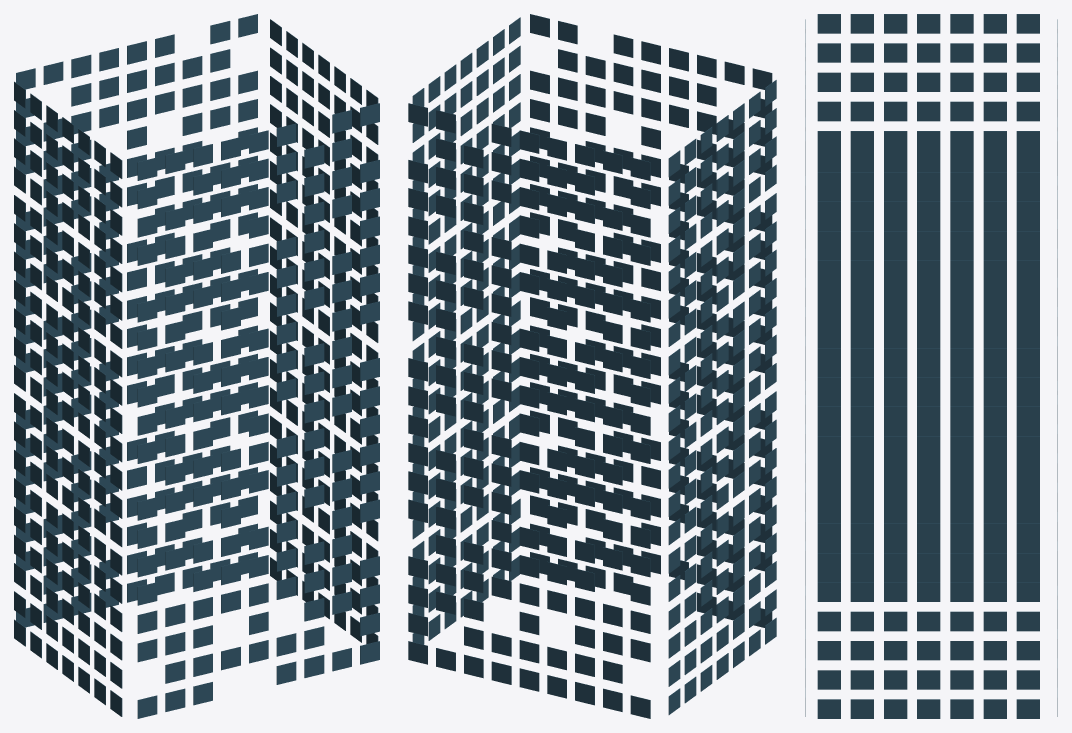
Rendered from glass.dae.
3 views of the same model, side by side, from view 1: azimuth 30°, elevation 25°; view 2: azimuth 150°, elevation 25°; view 3: azimuth 270°, elevation 25° (orthographic). The views are drawn at different scales.
Bounding box in the file's own units: 34.13 × 28.13 × 70.78.
